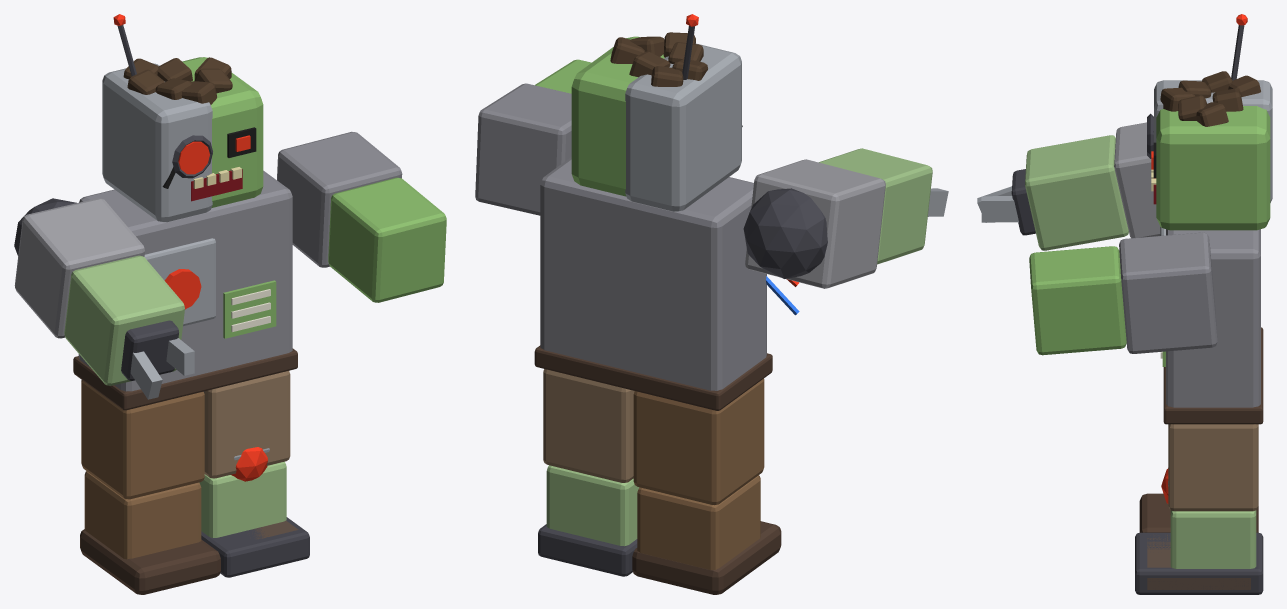
File: zombi_cyborg.glb
3 renders of one model, left to right at view 1: azimuth 30°, elevation 25°; view 2: azimuth 150°, elevation 25°; view 3: azimuth 270°, elevation 25°, orthographic. The views are drawn at different scales.
Parts seen in each view (by area): view 1: Torso, Head, LeftLeg, RightArm, Cube.025, Cube.026, Cube.032, Cube.033, RightLeg, LeftArm; view 2: Torso, Head, LeftLeg, RightArm, Cube.025, Cube.032, LeftArm, Cube.033, Cube.026, RightLeg; view 3: RightArm, Head, Torso, Cube.026, Cube.032, Cube.033, Cube.025, RightLeg, LeftArm, Cube.034, LeftLeg.
Part boxes in pixels (box(x1,y1,x2,y2)): Torso: box(73, 170, 297, 410); Head: box(102, 14, 263, 222); LeftLeg: box(80, 380, 220, 594); RightArm: box(277, 131, 446, 302); Cube.025: box(14, 198, 144, 338); Cube.026: box(64, 255, 184, 385); Cube.032: box(204, 371, 290, 478); Cube.033: box(199, 461, 286, 537); RightLeg: box(201, 447, 309, 577); LeftArm: box(14, 198, 194, 399); Torso: box(534, 157, 799, 410); Head: box(571, 14, 742, 211); LeftLeg: box(632, 378, 781, 594); RightArm: box(475, 59, 591, 215); Cube.025: box(745, 159, 885, 288); Cube.032: box(543, 369, 634, 482); LeftArm: box(743, 188, 948, 278); Cube.033: box(546, 465, 639, 546); Cube.026: box(819, 148, 932, 264); RightLeg: box(538, 524, 637, 576); RightArm: box(1029, 232, 1217, 355); Head: box(1147, 14, 1272, 230); Torso: box(1160, 227, 1263, 424); Cube.026: box(1025, 135, 1128, 250); Cube.032: box(1168, 424, 1258, 511); Cube.033: box(1170, 510, 1256, 568); Cube.025: box(1114, 122, 1160, 238); RightLeg: box(1135, 468, 1263, 594); LeftArm: box(977, 169, 1035, 235); Cube.034: box(1147, 534, 1250, 589); LeftLeg: box(1139, 493, 1258, 532).
Bounding box in the file's own units: 4 × 6.02 × 3.11.
Materials: 5 (1 with a texture image).
